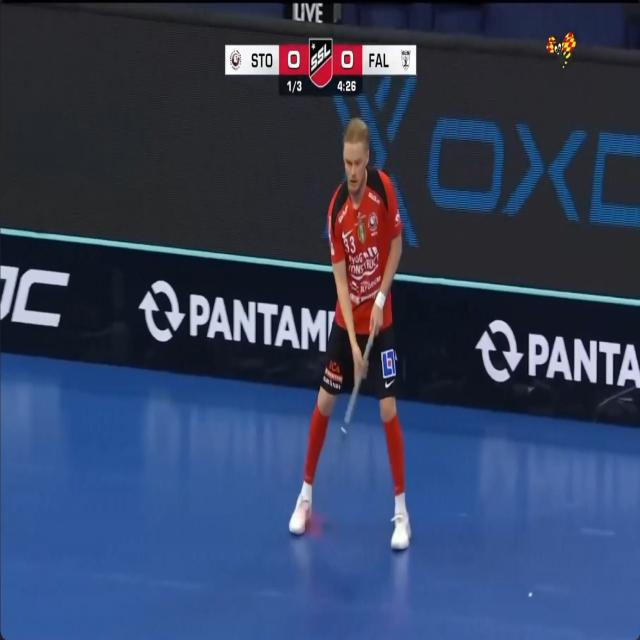player: (289, 119, 411, 549)
stick: (344, 377, 361, 423), (362, 331, 374, 360), (341, 426, 346, 433)
